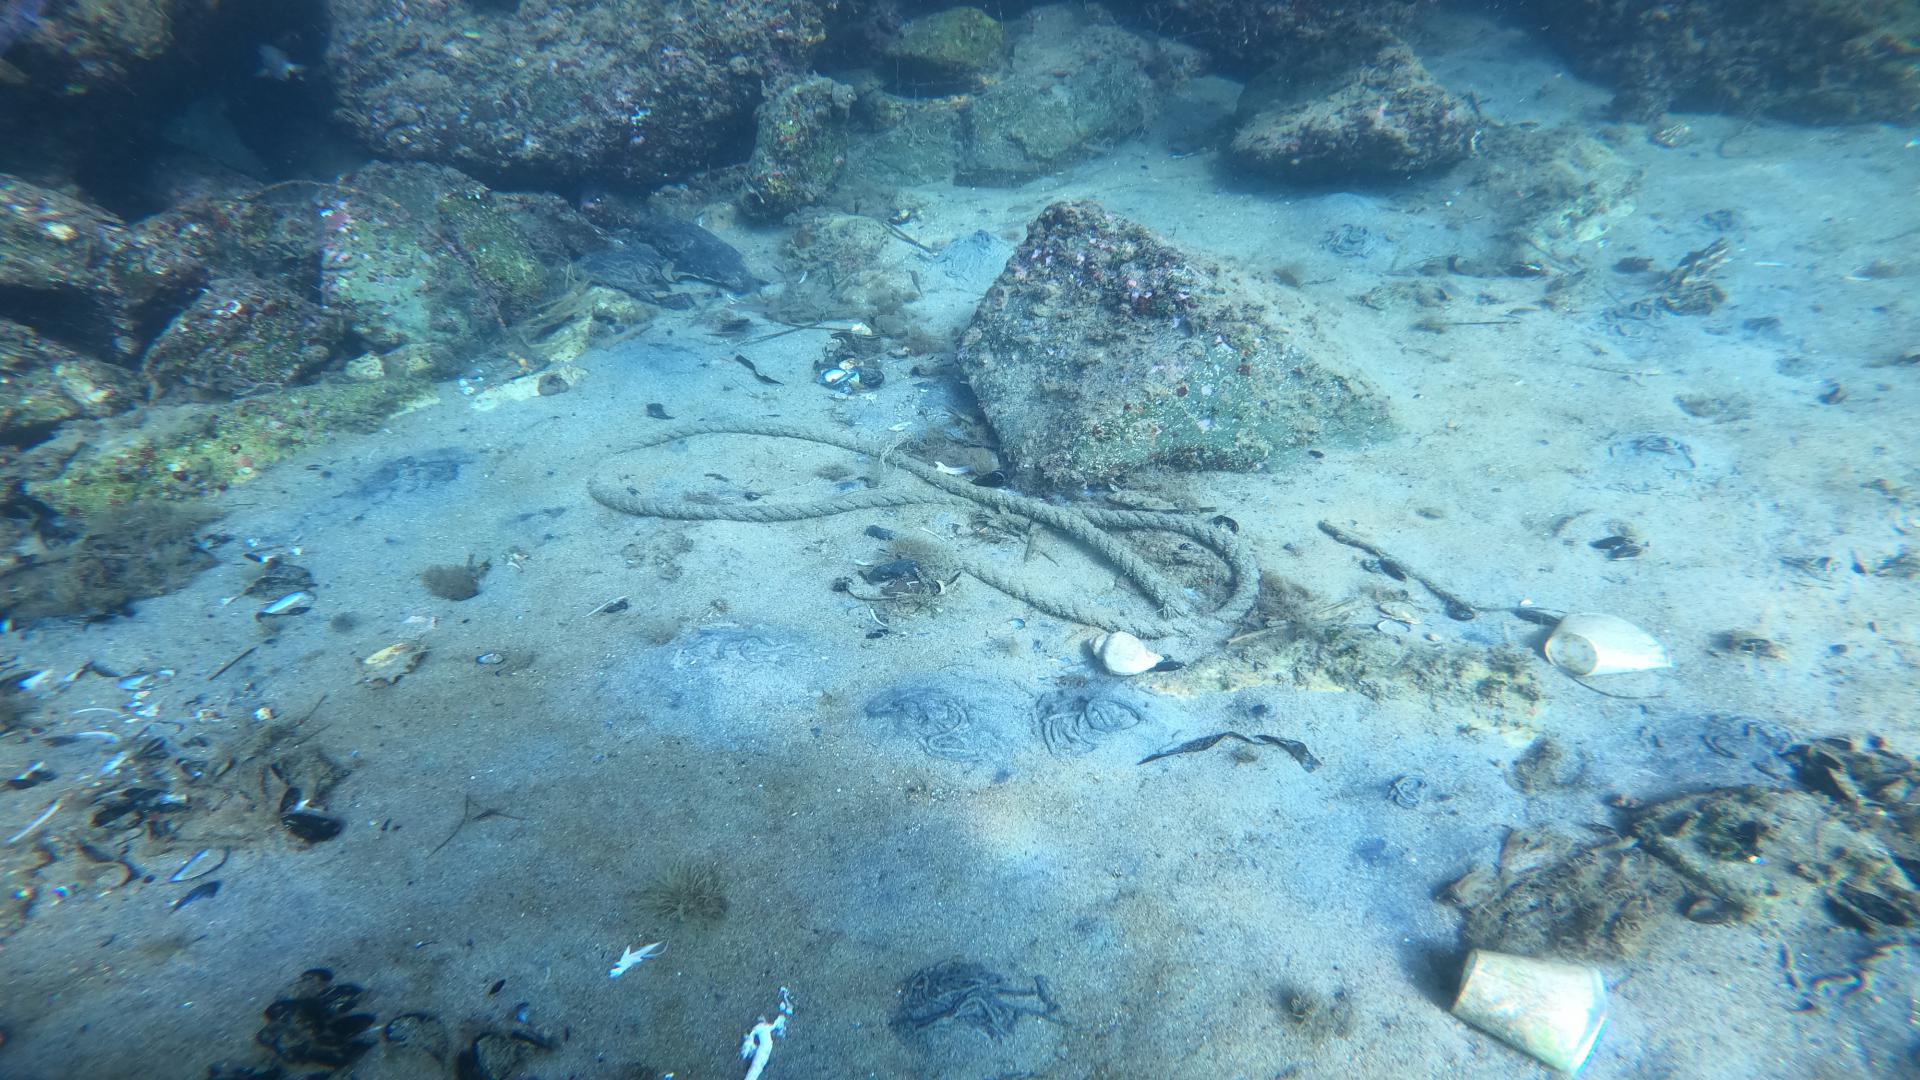bundle of ropes: (582, 417, 1261, 640)
